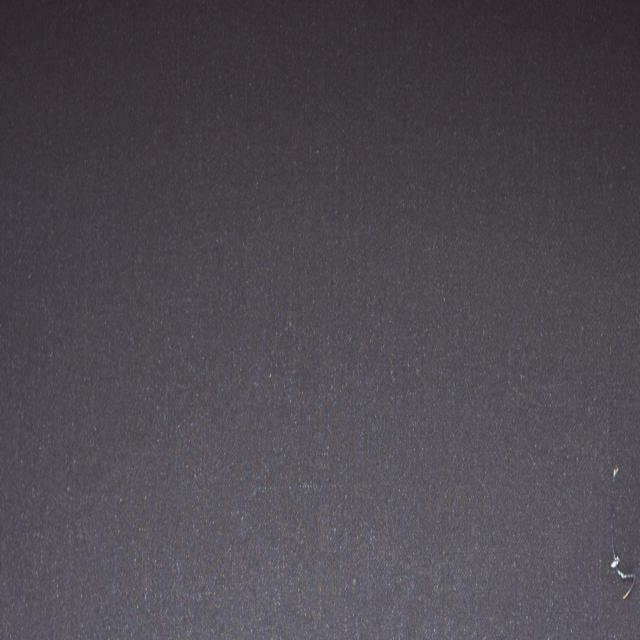Knot: (610, 491, 640, 602), (613, 465, 622, 484)
